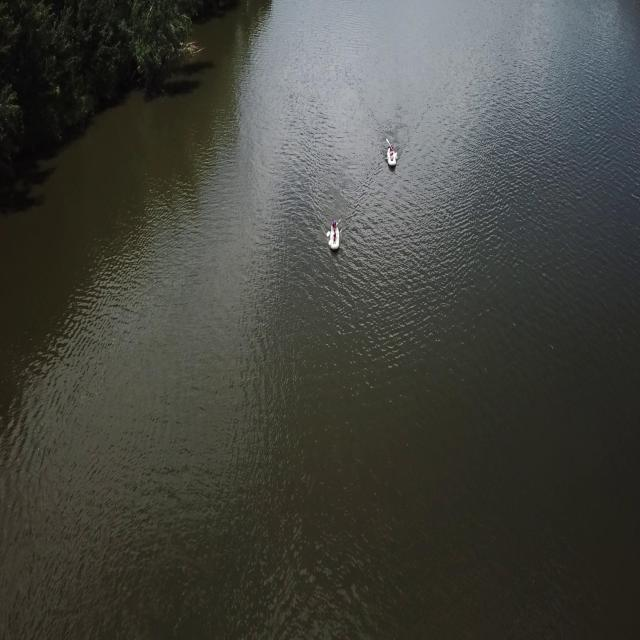kayak: (325, 214, 343, 253), (386, 134, 398, 170)
